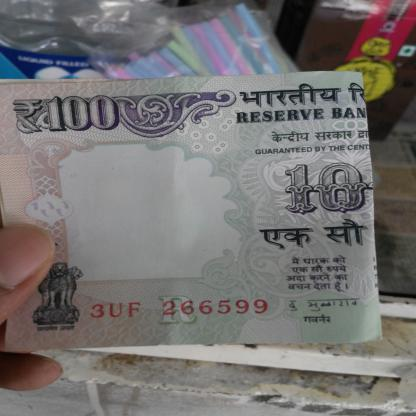Old100Front: (0, 71, 382, 354)
